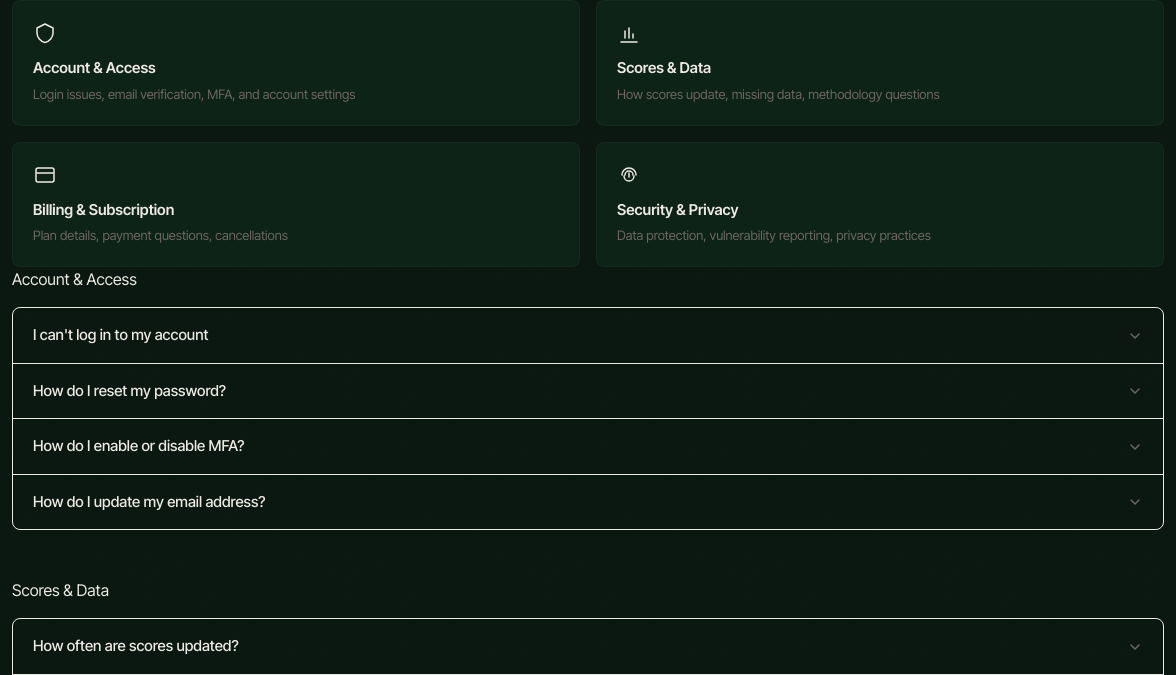
Test case: Support page integration › accordion opens and shows answer from real data
Click the button "I can't log in to my account".
click(121, 335)  # box x1=13 y1=308 x2=1163 y2=363
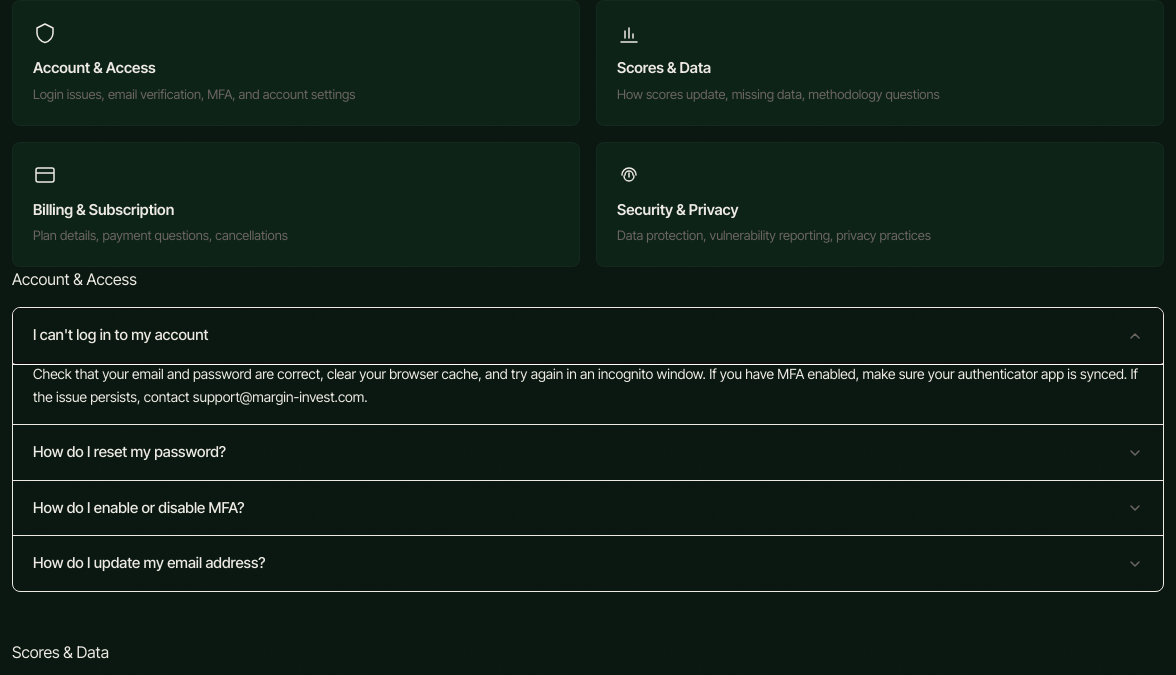
Now the text "Check that your email and password are correct" is shown, box x1=33 y1=365 x2=1138 y2=405
